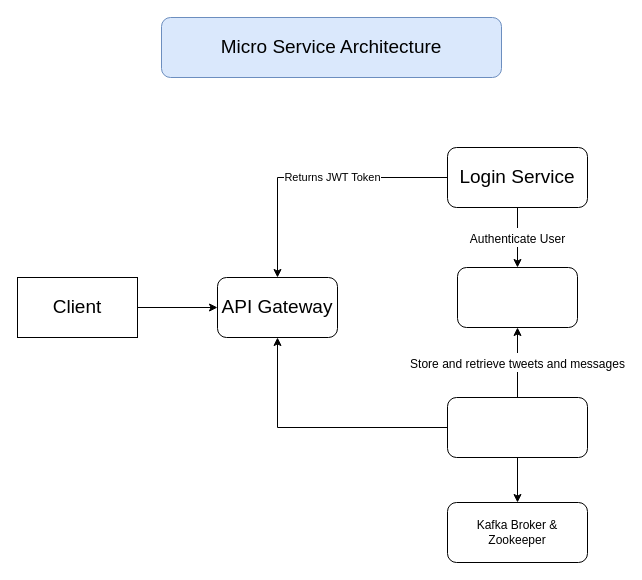
Image size: 642x580. Some labels were removed from this diagram. Here are the shapes that lost their labels. From the top down, the centre of each, then its label:
At [517,297]: "MongoDB".
At [517,427]: "Tweet & Chat Service".
